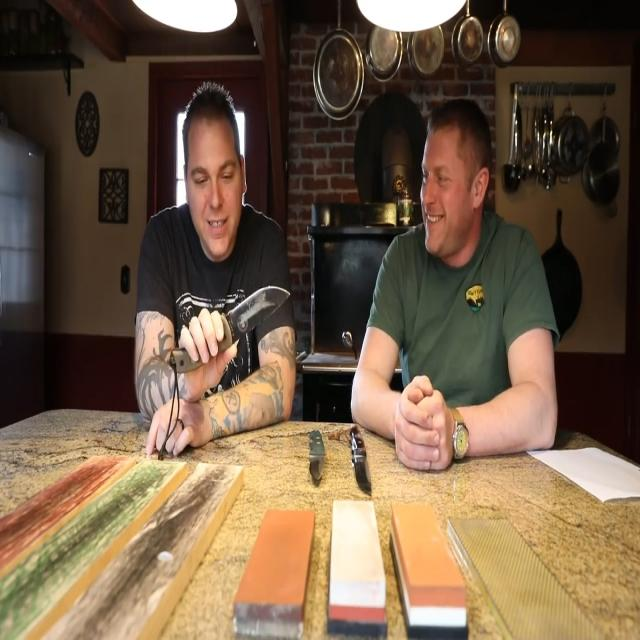knife: (224, 281, 296, 349), (344, 427, 379, 498), (302, 424, 330, 503)
